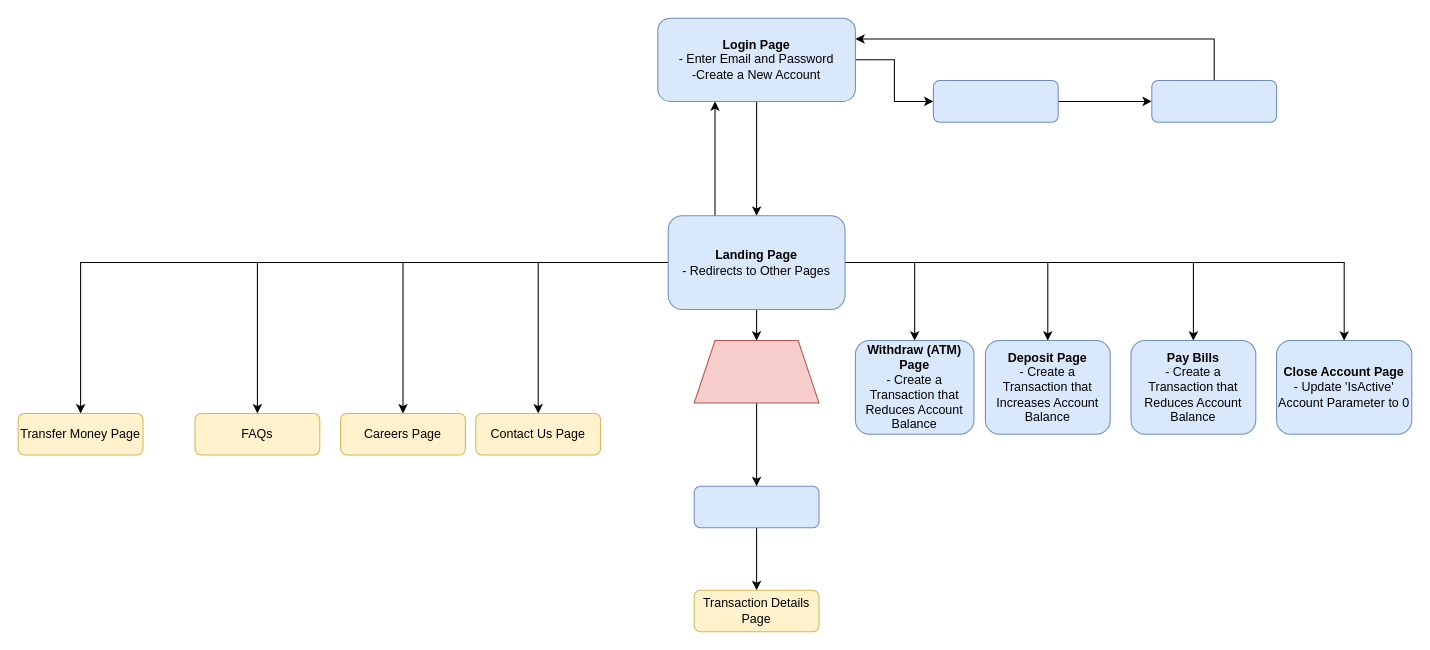
This 1430x650 diagram has some shape labels left out. Each missing label, with the centre of its shape:
Click Account: pixel 756 371
Create Account Page - Enter Account Type: pixel 1214 101
Create Client Page - Enter Client Credentials: pixel 995 101
View Transactions Page -: pixel 756 506
